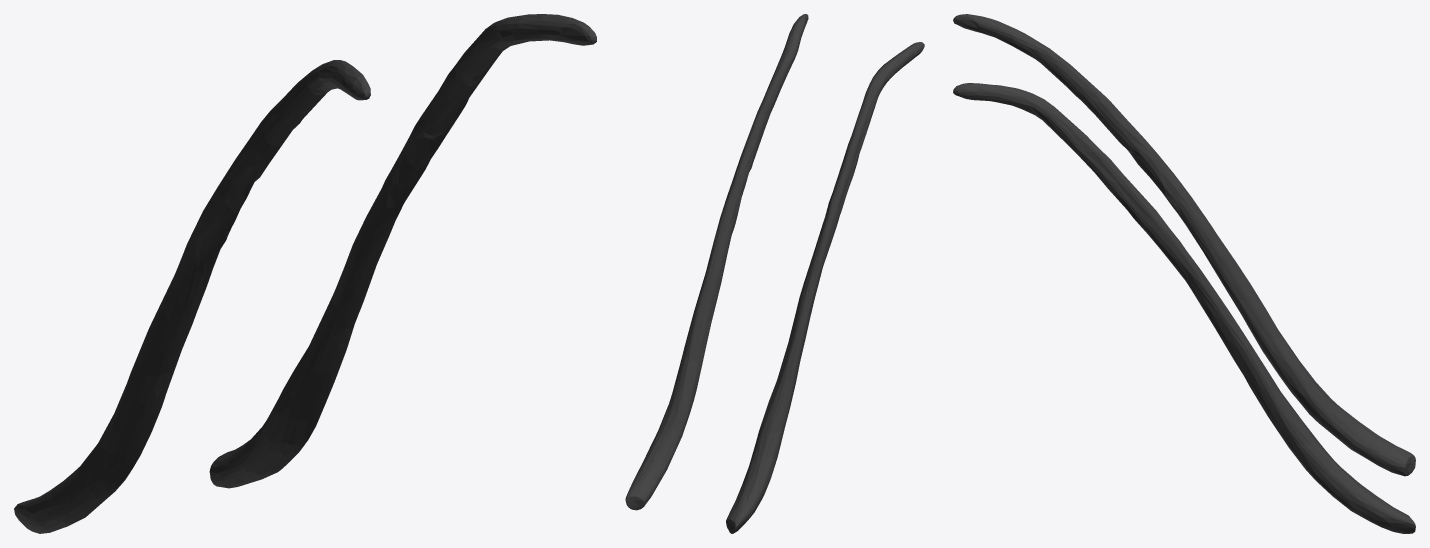
Rendered from m_longissimus_atlantis.glb.
3 views of the same model, side by side, from view 1: azimuth 30°, elevation 25°; view 2: azimuth 150°, elevation 25°; view 3: azimuth 270°, elevation 25° (orthographic). The views are drawn at different scales.
Visible parts, largest first — view 1: m_longissimus_atlantis; view 2: m_longissimus_atlantis; view 3: m_longissimus_atlantis.
Boxes of the visible parts, box(x1,y1,x2,y2) form: m_longissimus_atlantis: box(14, 14, 596, 533); m_longissimus_atlantis: box(625, 14, 924, 533); m_longissimus_atlantis: box(953, 14, 1415, 533).
Size of the model in its own units: 0.00219 by 0.00618 by 0.0057.
1 material, 1 textured.
